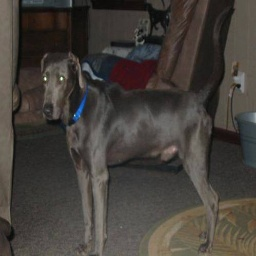dog: (37, 49, 226, 252)
